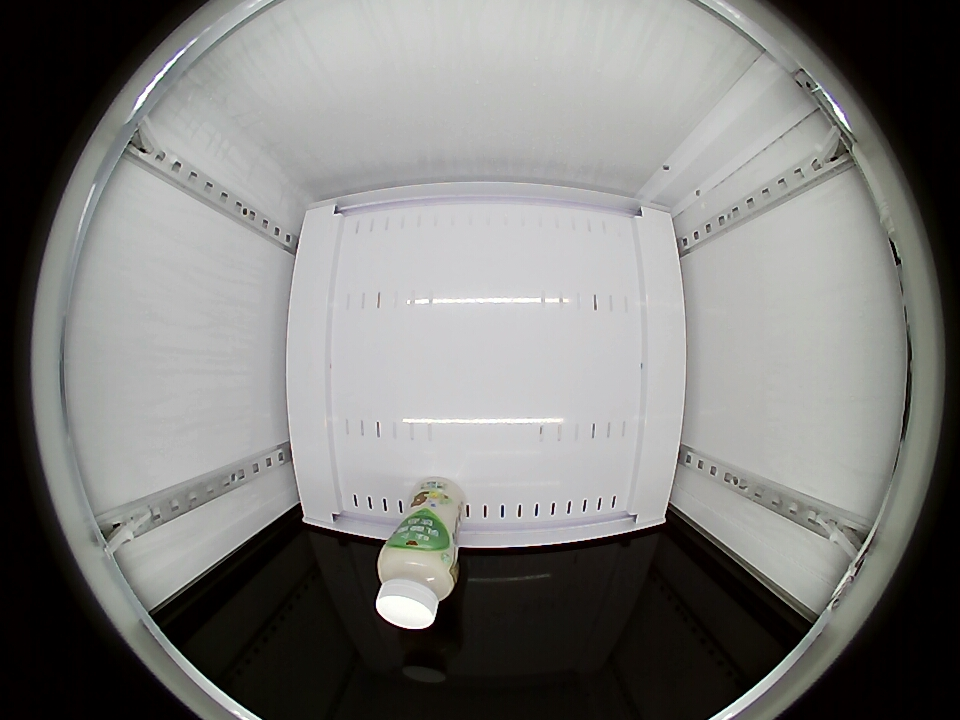yousuanru: (375, 537, 459, 630)
